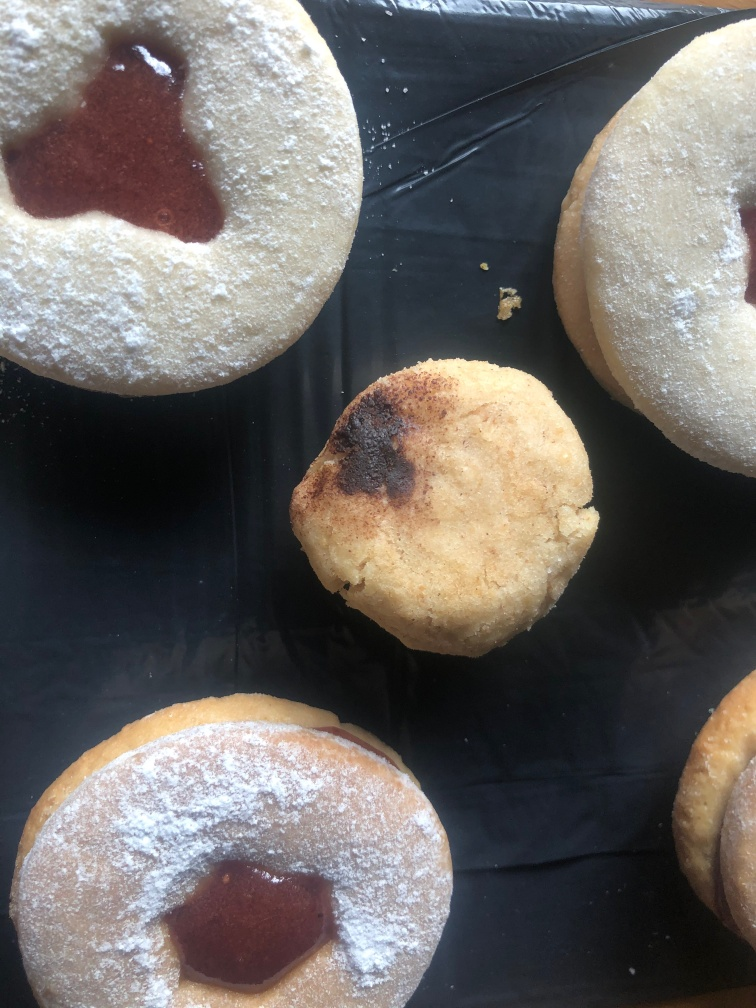christmas shortbread with jam: (4, 1, 368, 401), (16, 690, 451, 1008), (550, 8, 756, 486)
snowball: (294, 351, 600, 670)
